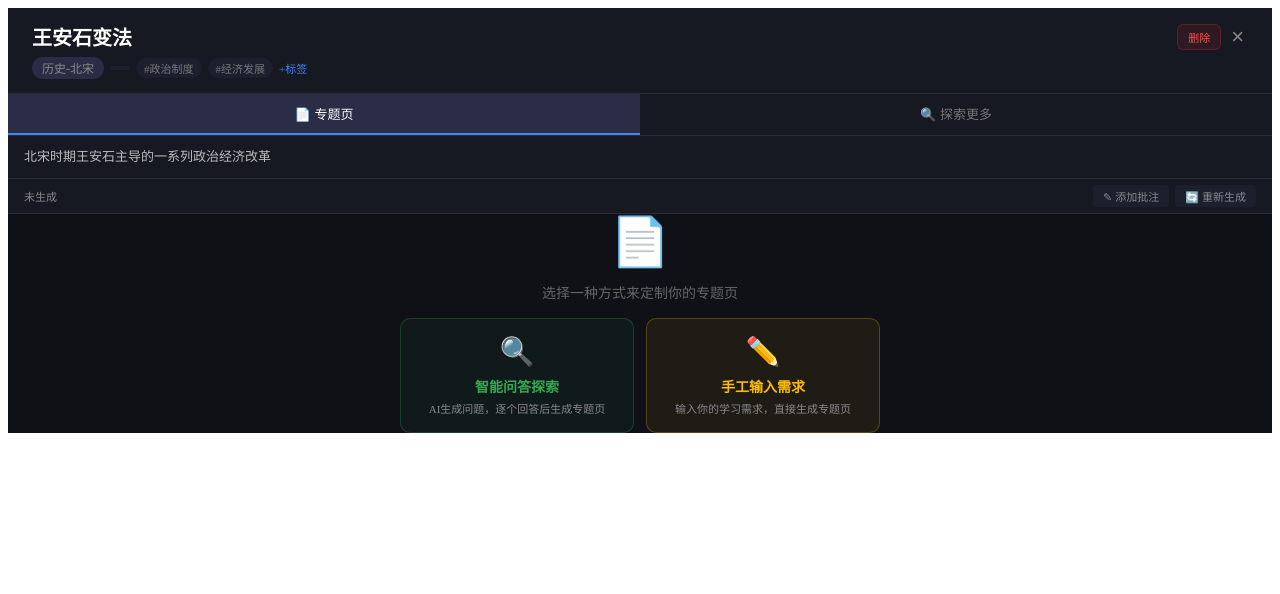
Test: EntryDetail Component › F15: Empty State Learning Paths › shows custom requirements input when clicking manual option
Click the text "手工输入需求". click: (763, 388)
box: [721,380,805,395]
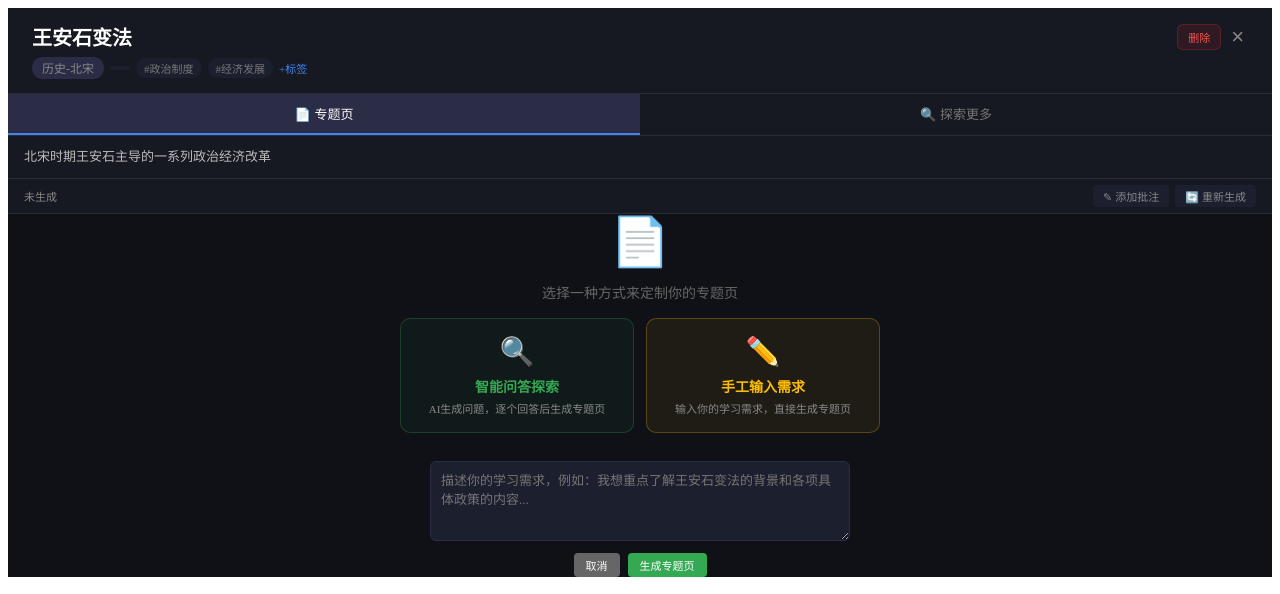
expect the text box with placeholder "描述你的学习需求，例如：我想重点了解王安石变法的背景和各项具体政策的内容..." is shown: met, box [430,461,850,541]
